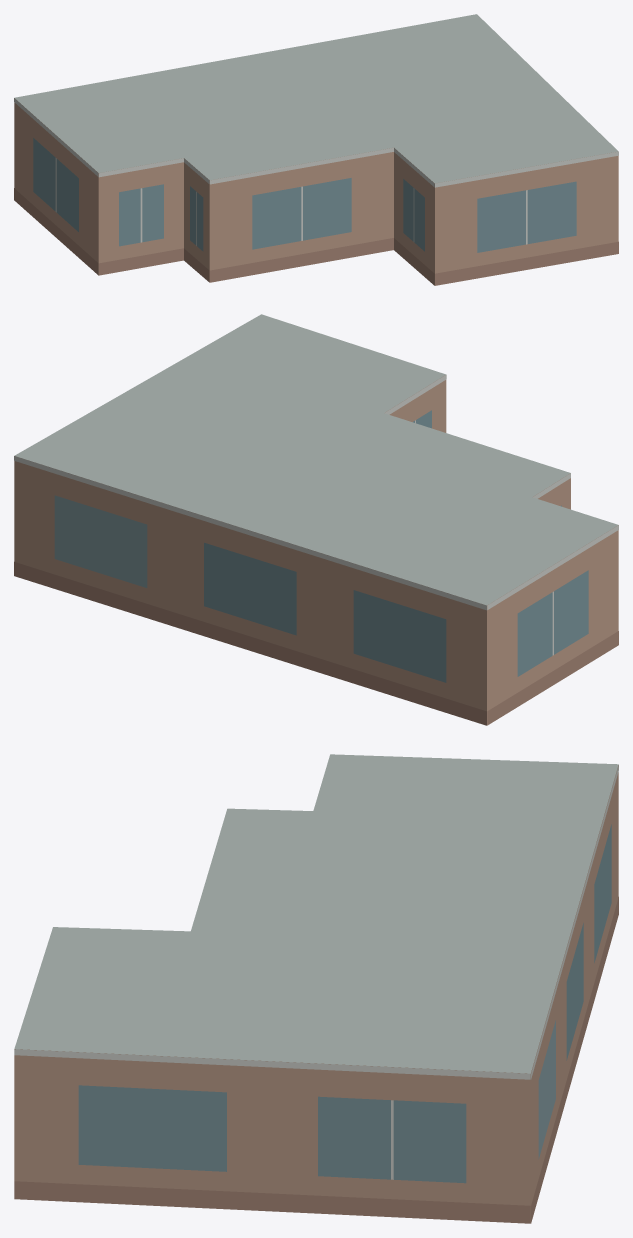
File: survey-upis-32595647.glb
3 renders of one model, top to bottom at view 1: azimuth 30°, elevation 25°; view 2: azimuth 150°, elevation 25°; view 3: azimuth 270°, elevation 25°, orthographic. The views are drawn at different scales.
Visible parts, largest first — view 1: survey-upis-32595647.tmp; view 2: survey-upis-32595647.tmp; view 3: survey-upis-32595647.tmp.
Part boxes in pixels (bbox=[...]): survey-upis-32595647.tmp: bbox=[14, 14, 618, 285]; survey-upis-32595647.tmp: bbox=[14, 314, 618, 725]; survey-upis-32595647.tmp: bbox=[14, 754, 618, 1223].
Size of the model in its own units: 13.94 by 3.05 by 11.15.
